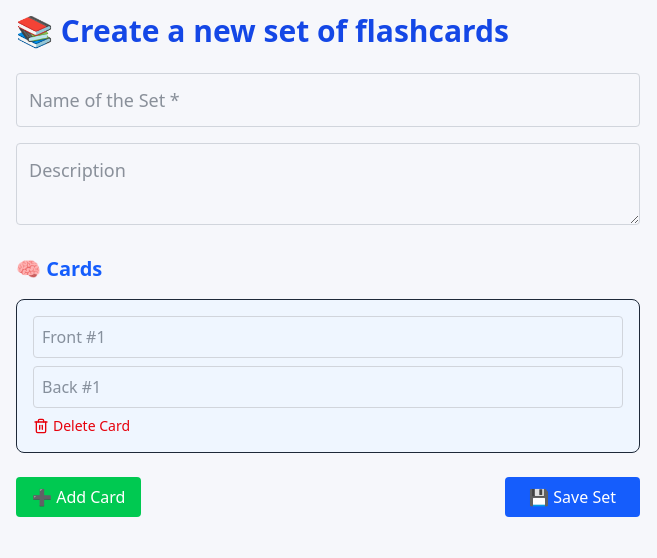
CreateFlashcardSetPage validation tests › shows card error if any card front or back is empty
Type "My Set" into the field with placeholder "Name of the Set *".
click(328, 100); type("My Set")  # box [16,73,640,127]
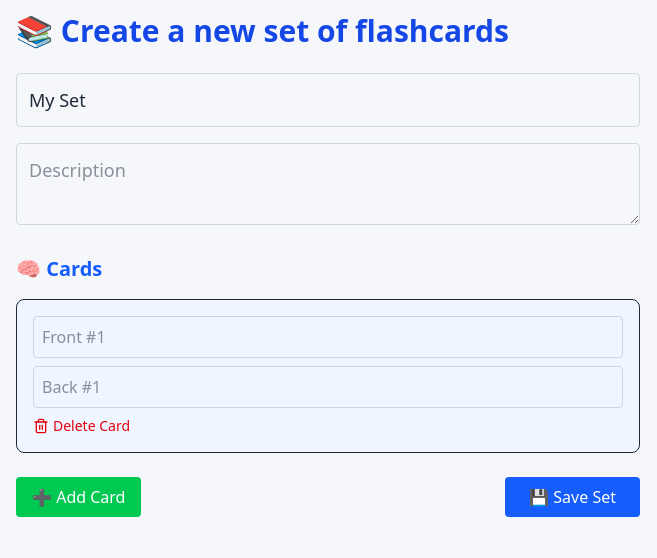
Click the button "💾 Save Set".
click(573, 497)  # box [505,477,640,517]
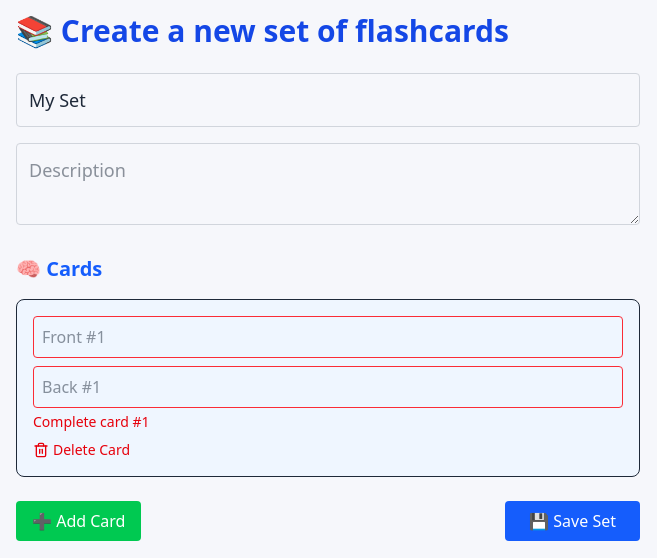
Check: the text "Complete card #1" is shown, box [33,412,150,431]
